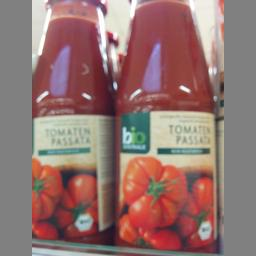tomato_sauce: (111, 0, 218, 255), (32, 0, 114, 245)
